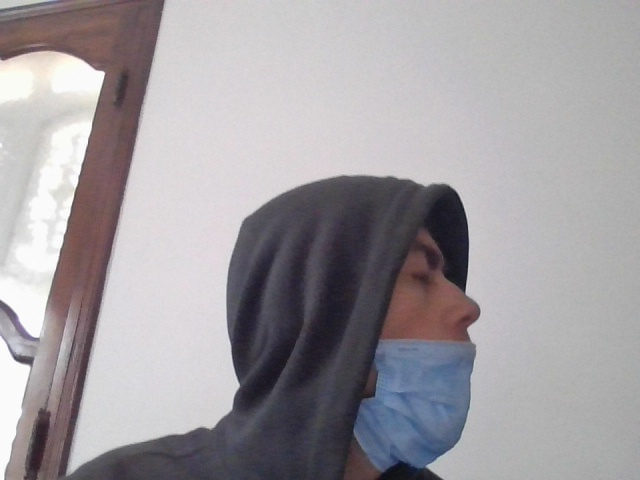mask_weared_incorrect: (337, 211, 498, 476)
